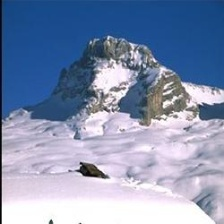neutral: (4, 2, 224, 117)
